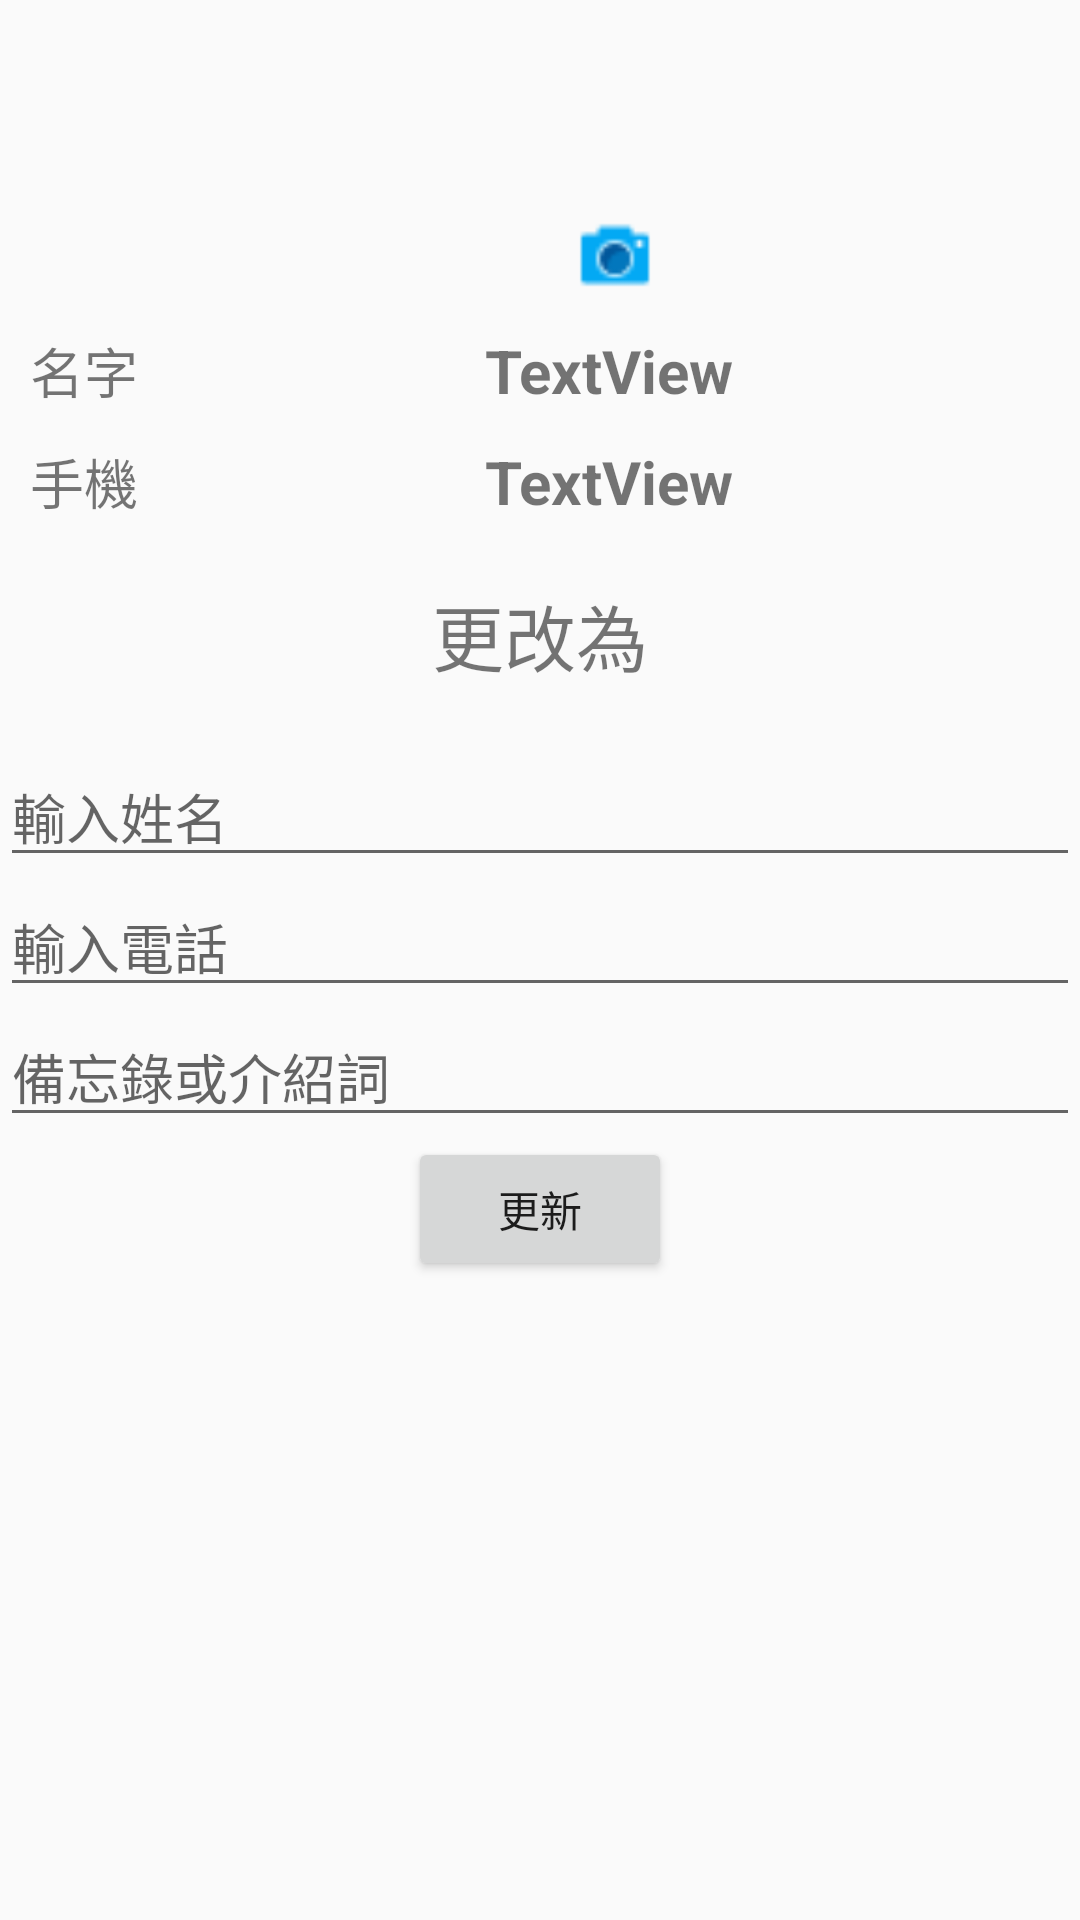

Screen size 1080px×1920px. Icon name, then its center in pixels as (x,y):
camera: (615,255)
